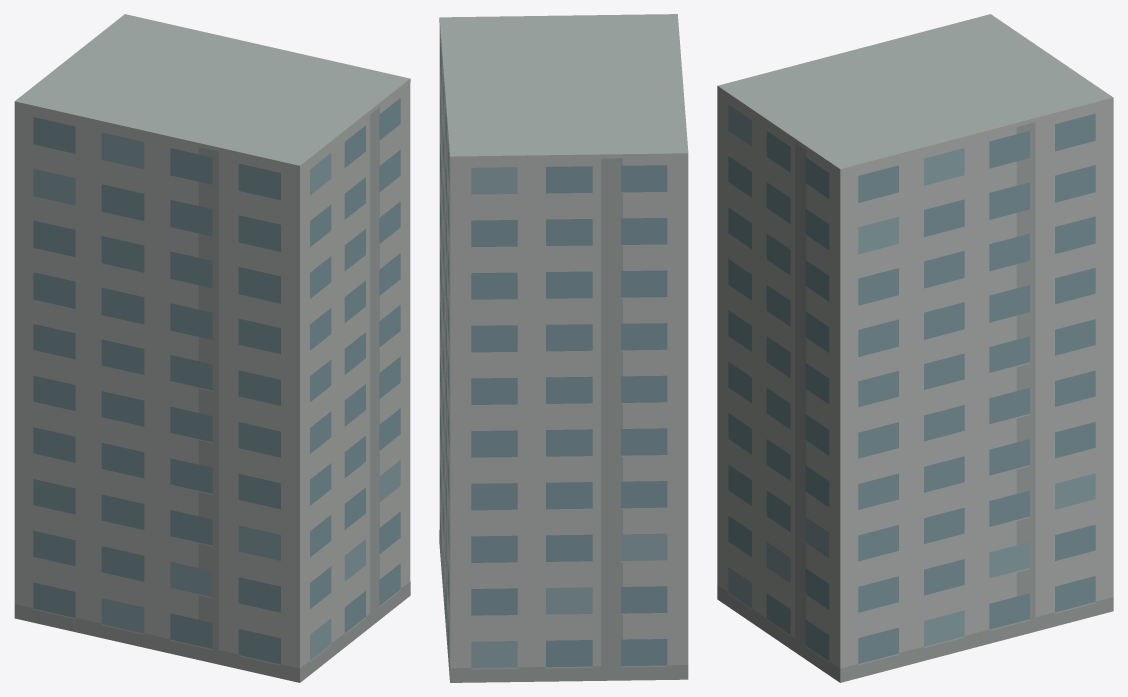
The model's file is residential-56ebdeac-75ba-419d-82aa-68803803102a.glb.
The picture shows the model from 3 angles, left to right: view 1: azimuth 30°, elevation 25°; view 2: azimuth 150°, elevation 25°; view 3: azimuth 270°, elevation 25°; orthographic projection. The views are drawn at different scales.
Parts seen in each view (by area): view 1: residential-56ebdeac-75ba-419d-82aa-68803803102a.tmp; view 2: residential-56ebdeac-75ba-419d-82aa-68803803102a.tmp; view 3: residential-56ebdeac-75ba-419d-82aa-68803803102a.tmp.
Part boxes in pixels (x1,y1,x2,y2): residential-56ebdeac-75ba-419d-82aa-68803803102a.tmp: (14,14,410,682); residential-56ebdeac-75ba-419d-82aa-68803803102a.tmp: (439,14,688,682); residential-56ebdeac-75ba-419d-82aa-68803803102a.tmp: (717,14,1113,682).
Bounding box in the file's own units: 19.45 × 30 × 20.97.
